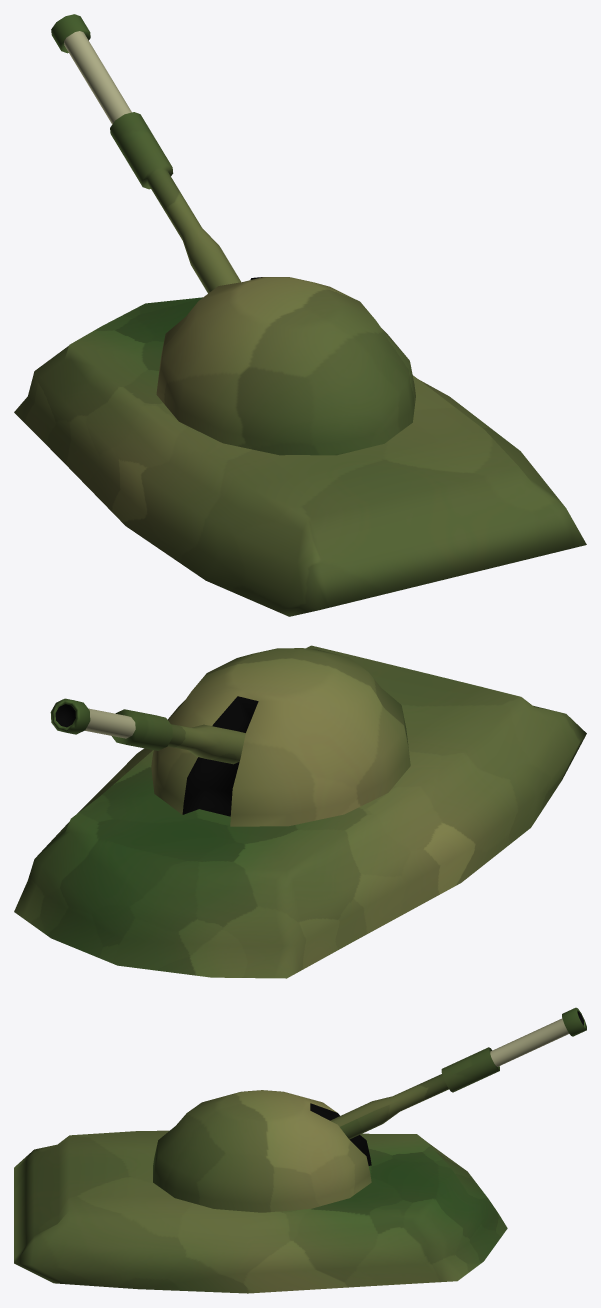
File: Tank.fbx
The picture shows the model from 3 angles, top to bottom: view 1: azimuth 30°, elevation 25°; view 2: azimuth 150°, elevation 25°; view 3: azimuth 270°, elevation 25°; orthographic projection. The views are drawn at different scales.
Parts seen in each view (by area): view 1: pCube4, pSphere2, pCylinder1; view 2: pCube4, pSphere2, pCylinder1; view 3: pCube4, pSphere2, pCylinder1.
Part boxes in pixels (bbox=[...]): pCube4: bbox=[14, 297, 586, 616]; pSphere2: bbox=[156, 277, 415, 455]; pCylinder1: bbox=[51, 14, 240, 293]; pCube4: bbox=[14, 645, 586, 978]; pSphere2: bbox=[151, 648, 410, 826]; pCylinder1: bbox=[50, 698, 245, 764]; pCube4: bbox=[14, 1130, 507, 1293]; pSphere2: bbox=[153, 1090, 371, 1212]; pCylinder1: bbox=[330, 1007, 586, 1139].
Bounding box in the file's own units: 8.55 × 7.49 × 17.26.
